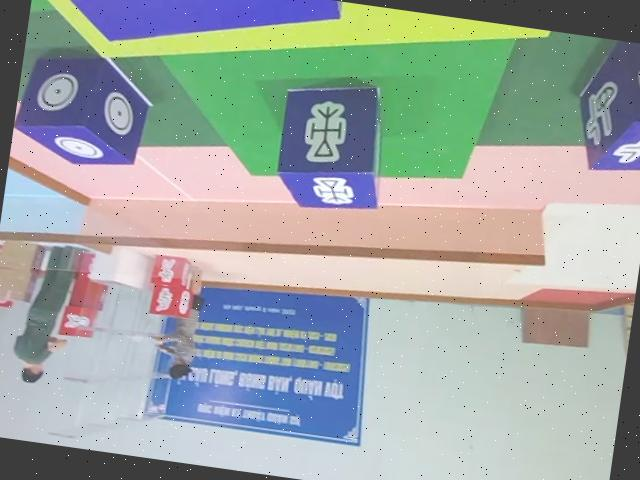R2 Real Blue: (10, 42, 156, 172), (271, 71, 394, 215), (566, 34, 640, 178)
